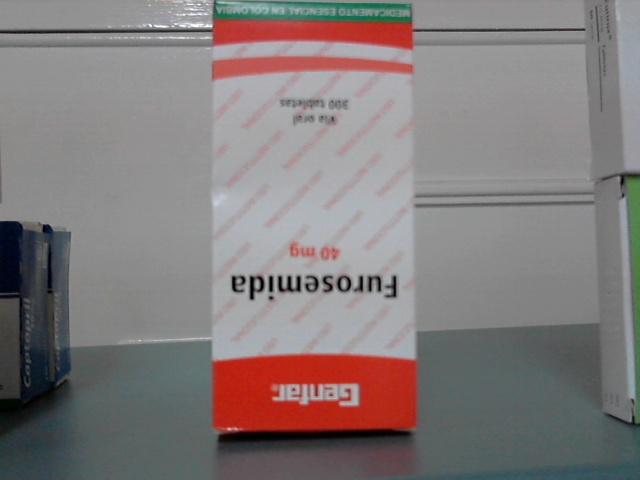Genfar: (213, 2, 416, 427)
